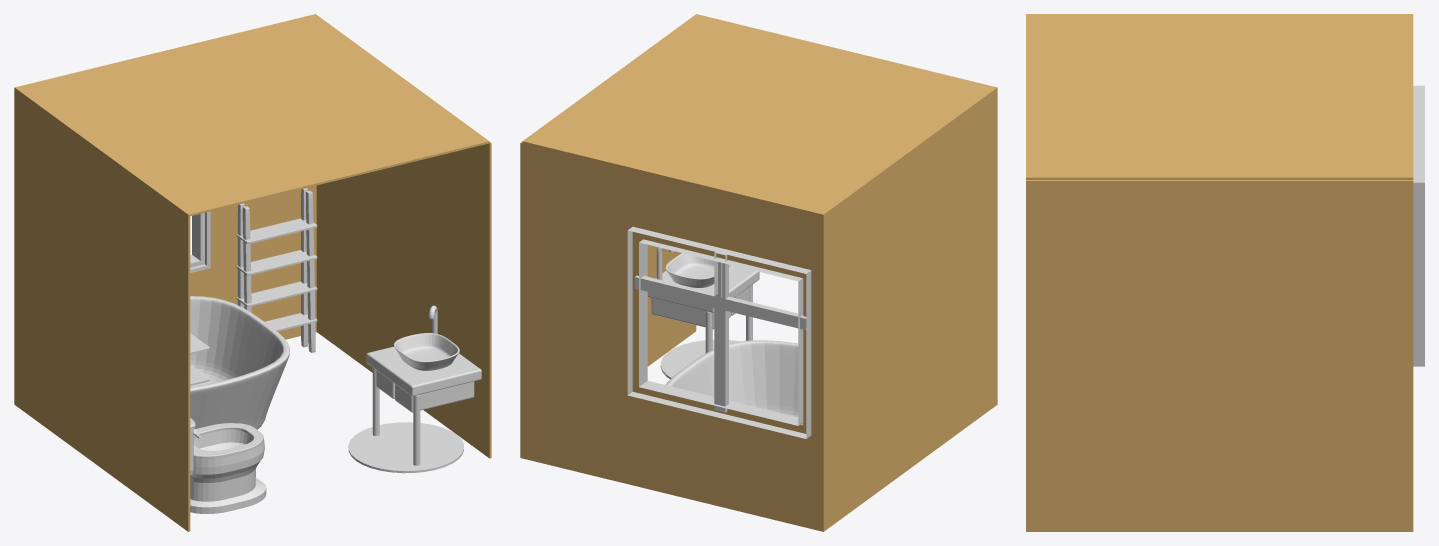
The model's file is 1001_bathroom_withoutT.fbx.
3 views of the same model, side by side, from view 1: azimuth 30°, elevation 25°; view 2: azimuth 150°, elevation 25°; view 3: azimuth 270°, elevation 25° (orthographic). The views are drawn at different scales.
Visible parts, largest first — view 1: Wall1, Ceiling, Wall3, bathtub, Wall2, Washstand_cube, toilet, CARPET, Sink, toilet.001, Cube.007, FRAME (+6 smaller); view 2: Wall2, Wall1, Ceiling, FRAME, bathtub, MiDDLE, Wall3, Washstand_cube, Sink, CARPET; view 3: Wall3, Ceiling, FRAME.
Boxes of the visible parts, box(x1,y1,x2,y2) form: Wall1: box(14, 89, 190, 531); Ceiling: box(14, 14, 489, 216); Wall3: box(316, 142, 491, 458); bathtub: box(190, 296, 289, 429); Wall2: box(190, 185, 316, 339); Washstand_cube: box(366, 346, 481, 465); toilet: box(190, 429, 266, 513); CARPET: box(348, 422, 463, 473); Sink: box(393, 333, 459, 370); toilet.001: box(193, 423, 263, 458); Cube.007: box(306, 191, 315, 352); FRAME: box(190, 211, 210, 272); Wall2: box(522, 143, 824, 531); Wall1: box(821, 89, 997, 531); Ceiling: box(522, 14, 997, 216); FRAME: box(627, 226, 811, 438); bathtub: box(665, 340, 798, 417); MiDDLE: box(634, 252, 806, 412); Wall3: box(520, 142, 696, 458); Washstand_cube: box(647, 265, 759, 353); Sink: box(665, 253, 729, 287); CARPET: box(660, 339, 740, 379); Wall3: box(1026, 180, 1413, 531); Ceiling: box(1026, 14, 1413, 179); FRAME: box(1413, 85, 1424, 366).
Bounding box in the file's own units: 302 × 302 × 309.
